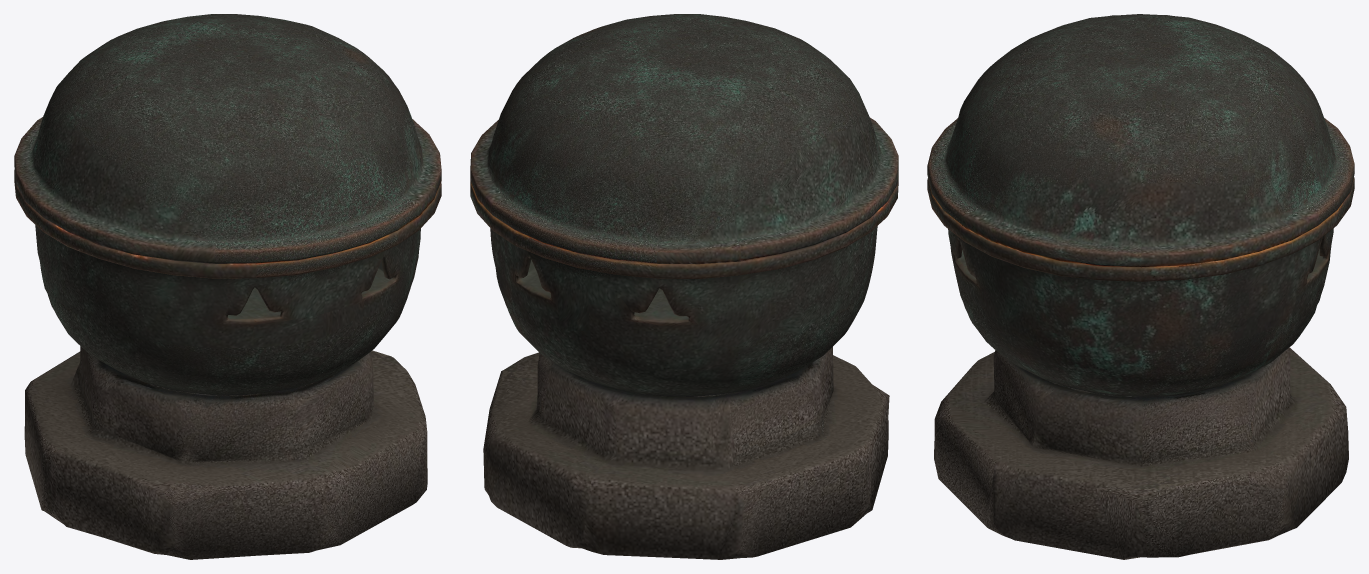
Rendered from tripo_convert_5097c818-6856-4dcf-90e2-64e4c68ba8c4.fbx.
3 views of the same model, side by side, from view 1: azimuth 30°, elevation 25°; view 2: azimuth 150°, elevation 25°; view 3: azimuth 270°, elevation 25° (orthographic).
Visible parts, largest first — view 1: tripo_node_5097c818; view 2: tripo_node_5097c818; view 3: tripo_node_5097c818.
Boxes of the visible parts, left/top/right/bottom form: tripo_node_5097c818: left=14, top=14, right=441, bottom=559; tripo_node_5097c818: left=470, top=14, right=898, bottom=559; tripo_node_5097c818: left=927, top=14, right=1354, bottom=559.
Bounding box in the file's own units: 0.9082 × 0.998 × 0.9082.
1 material, 1 textured.
